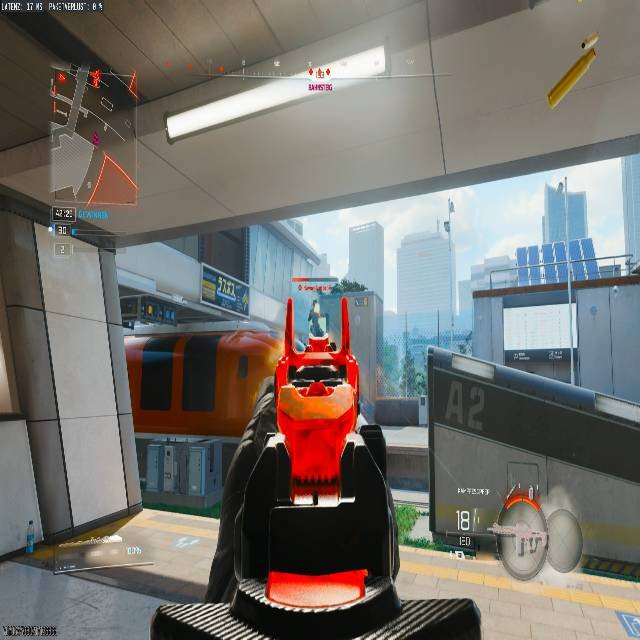player: (308, 300, 325, 338)
